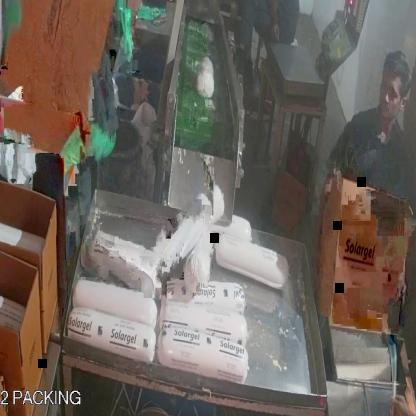no_glove: (300, 161, 340, 301), (266, 0, 284, 56)
